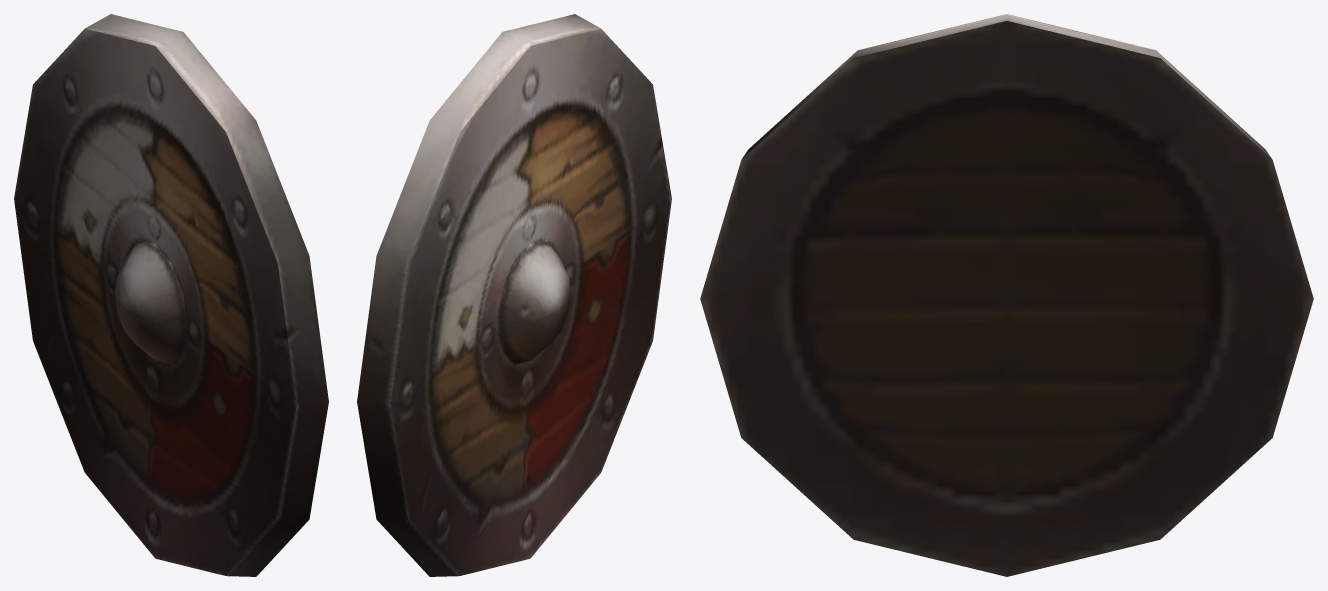
The model's file is shield12_ca7e6b1c.glb.
The picture shows the model from 3 angles, left to right: view 1: azimuth 30°, elevation 25°; view 2: azimuth 150°, elevation 25°; view 3: azimuth 270°, elevation 25°; orthographic projection. The views are drawn at different scales.
Size of the model in its own units: 0.1075 by 0.954 by 0.954.
Materials: 1 (1 with a texture image).
